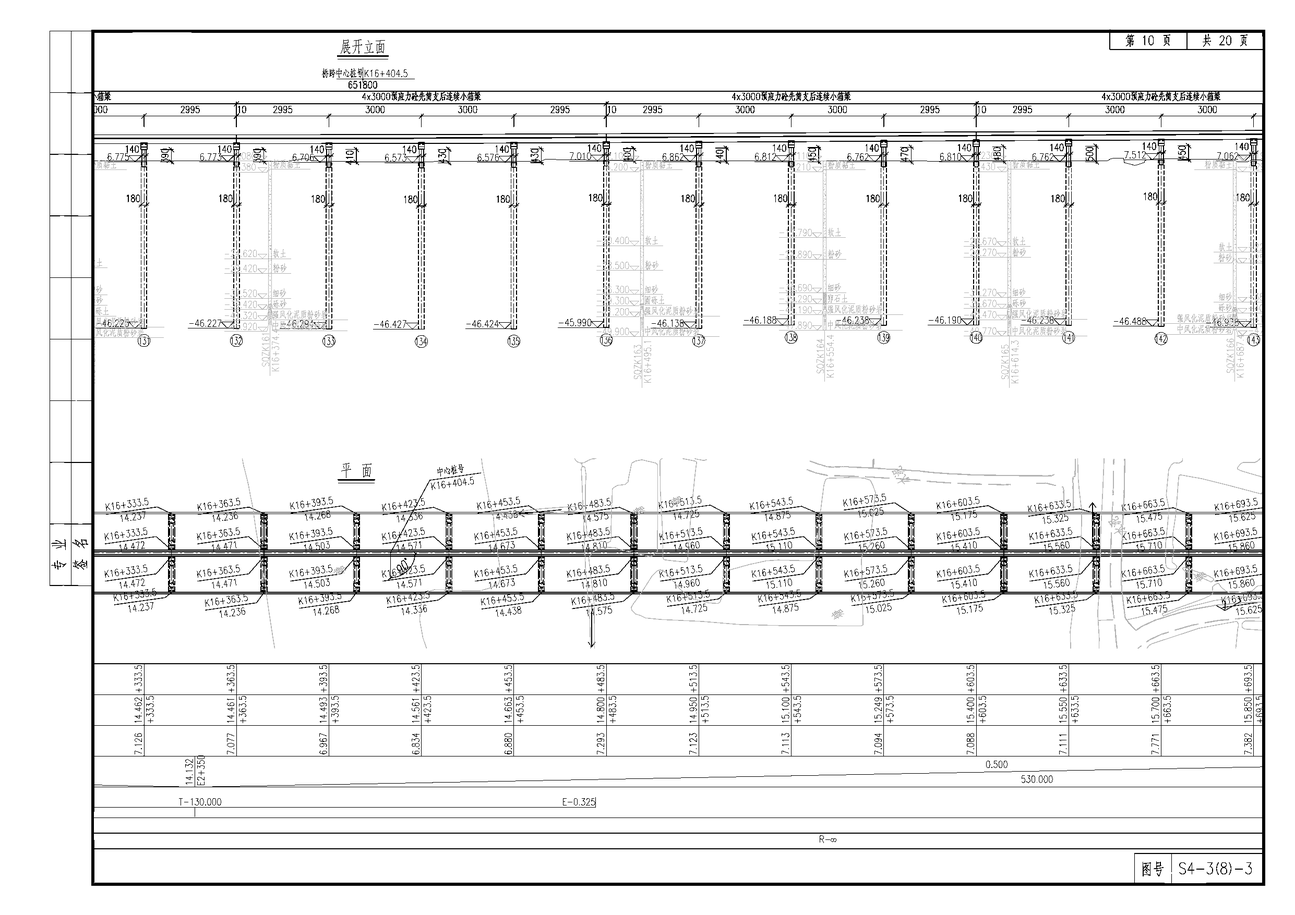A: (91, 39, 1268, 378)
